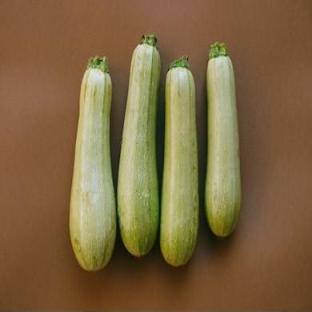Zucchini: (70, 58, 116, 271), (118, 35, 160, 256), (160, 58, 198, 266), (206, 42, 240, 237)
